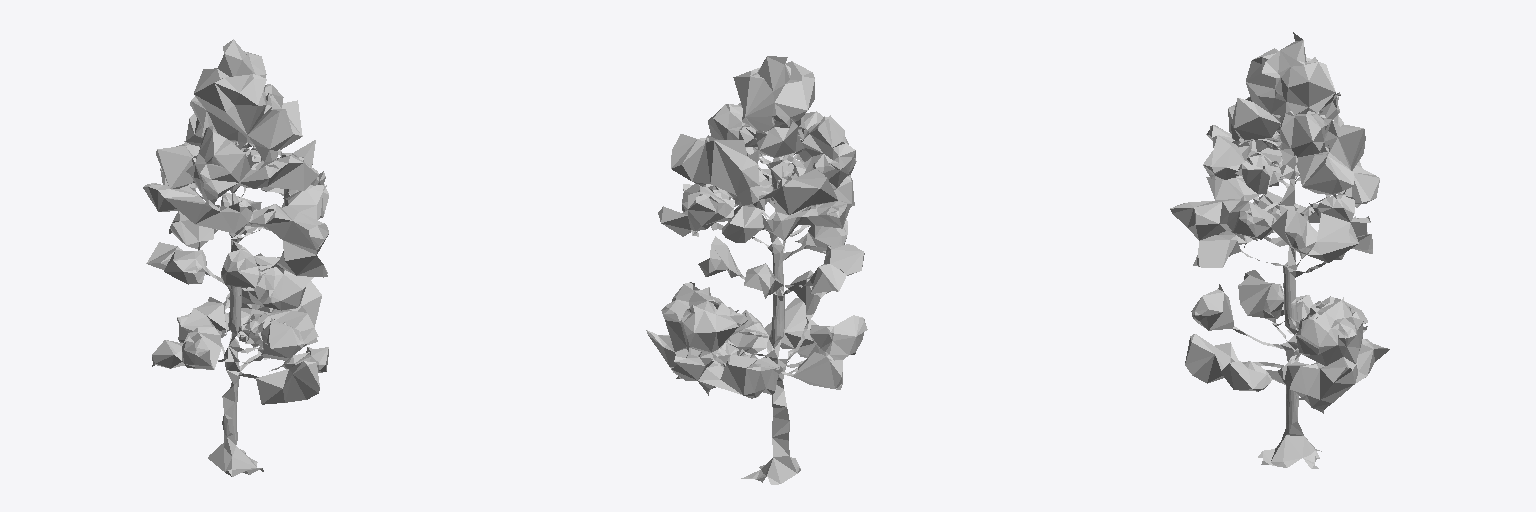
Rendered from phrenderformer_ph01_tree_00.obj.
The picture shows the model from 3 angles: view 1: azimuth 30°, elevation 25°; view 2: azimuth 150°, elevation 25°; view 3: azimuth 270°, elevation 25°; orthographic projection.
Visible parts, largest first — view 1: ph_lptree_pine005; view 2: ph_lptree_pine005; view 3: ph_lptree_pine005.
Boxes of the visible parts, <box> form: ph_lptree_pine005: <box>143,39,328,476</box>; ph_lptree_pine005: <box>646,56,867,484</box>; ph_lptree_pine005: <box>1170,32,1389,468</box>.
Bounding box in the file's own units: 5.19 × 11.2 × 5.31.